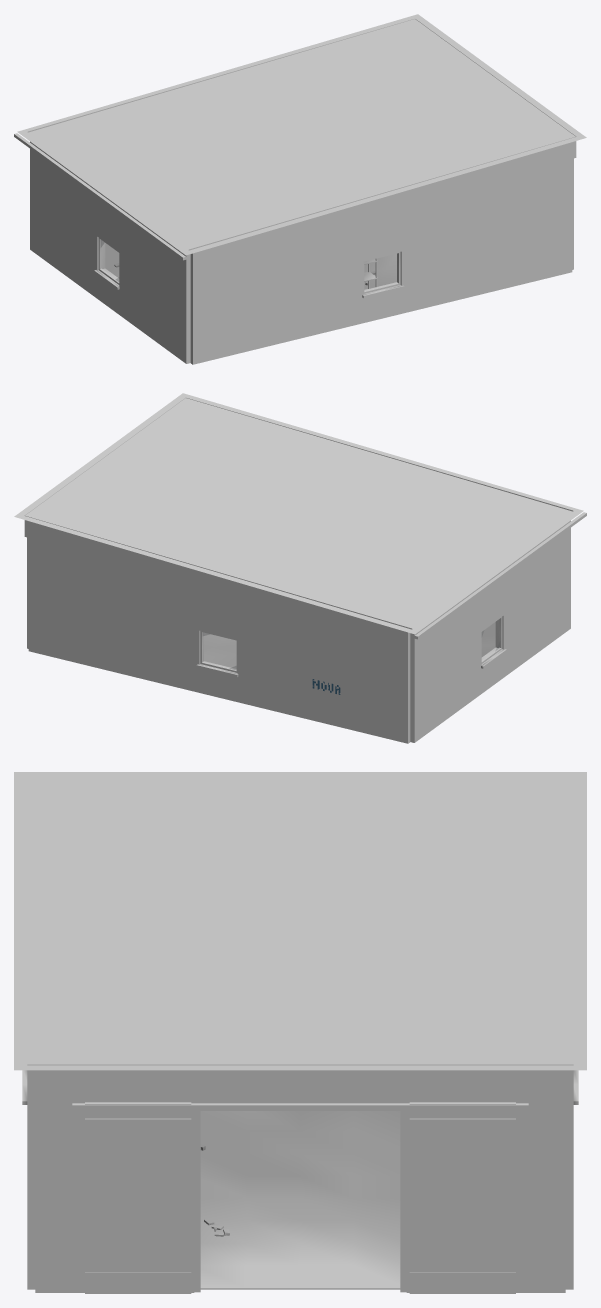
The model's file is shed.glb.
3 views of the same model, one above another, from view 1: azimuth 30°, elevation 25°; view 2: azimuth 150°, elevation 25°; view 3: azimuth 270°, elevation 25° (orthographic). The views are drawn at different scales.
Parts seen in each view (by area): view 1: shed; view 2: shed; view 3: shed.
Part boxes in pixels (x1=…): shed: x1=14, y1=14, x2=586, y2=364; shed: x1=14, y1=393, x2=586, y2=743; shed: x1=14, y1=772, x2=586, y2=1293.
Size of the model in its own units: 14.91 by 4.75 by 10.8.
Materials: 4 (3 with a texture image).
